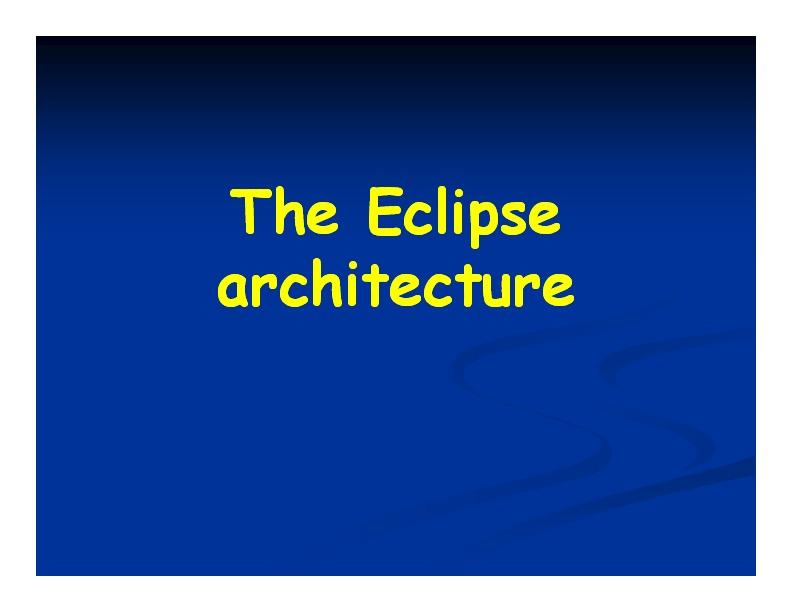title: (208, 167, 598, 343)
